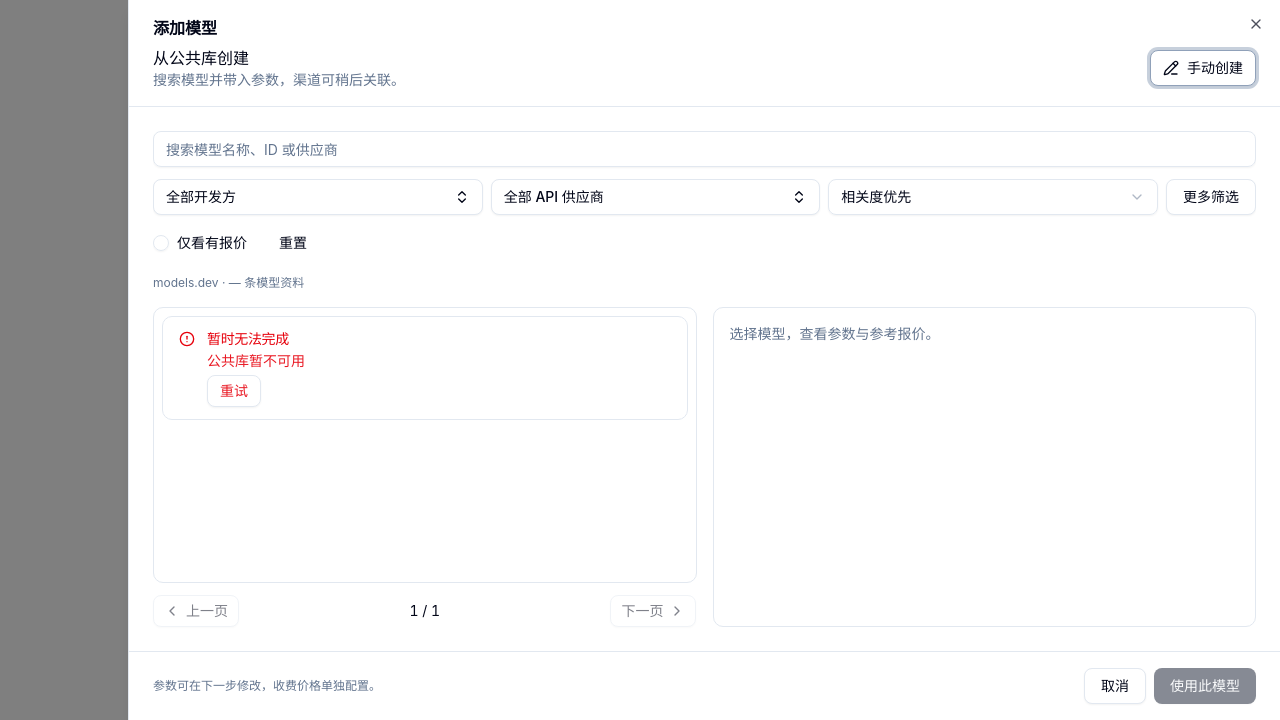
Test: recovers a public library error and labels stale catalogue data
The image size is (1280, 720).
Check: the text "公共库暂不可用" is shown, box [207,351,305,371]
Check: the button "手动创建" is enabled, box [1150,50,1256,86]
What coordinates should you click on to do the following:
click the button "重试"
I would click on:
 (234, 391)
Its box is [207,375,261,407].
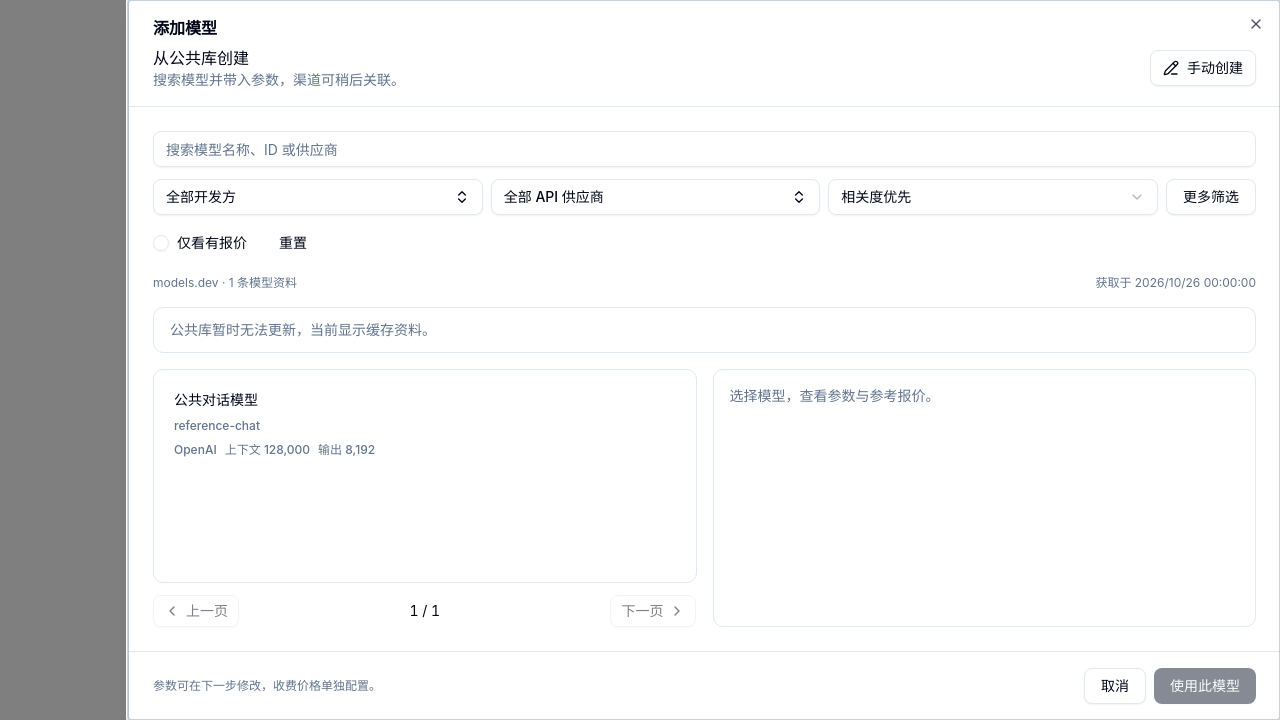
Check: the text "公共库暂时无法更新，当前显示缓存资料。" is shown, box [170,321,436,338]
What coordinates should you click on to do the following:
click the button "公共对话模型 reference-chat OpenAI 上下文 128,000 输出 8,192"
I would click on:
 (216, 400)
Its box is [162,378,688,470].
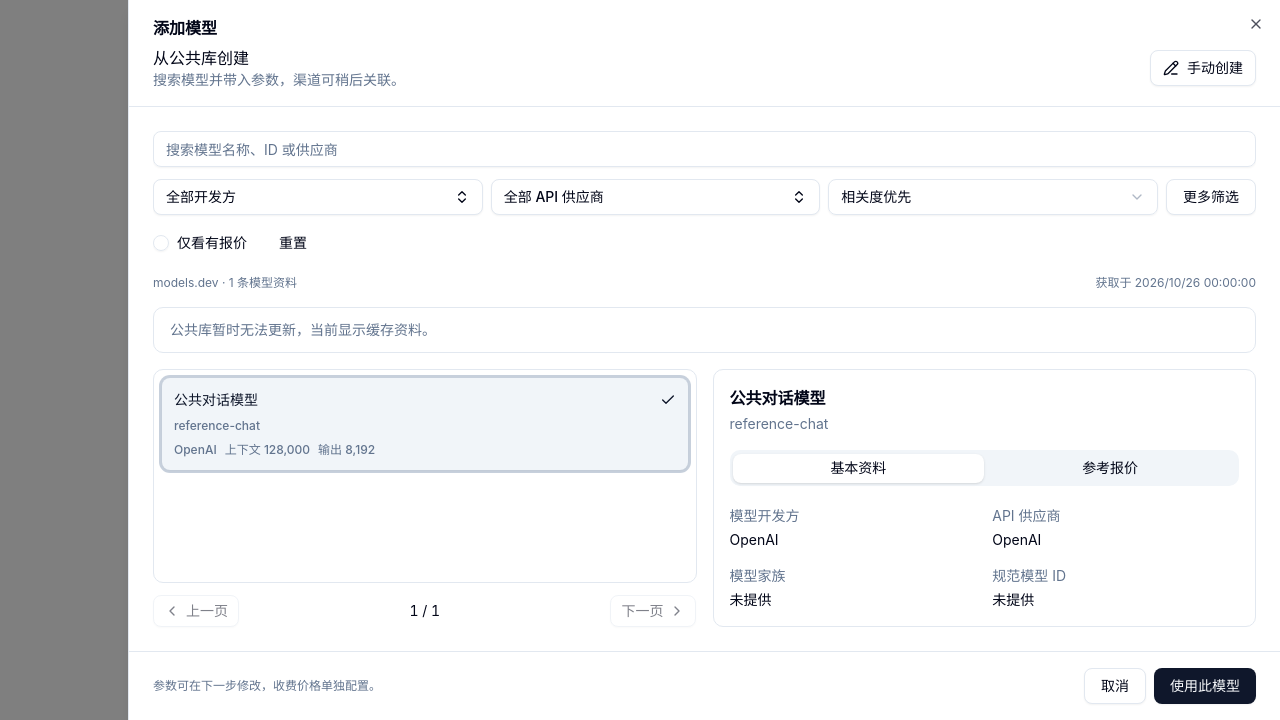
Check: the button "使用此模型" is enabled, box [1154,668,1256,704]
